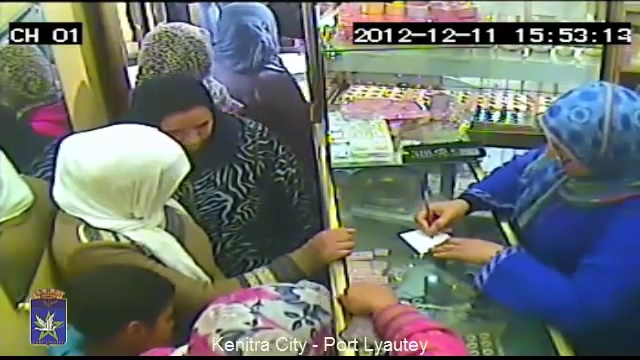face: (161, 110, 218, 154)
